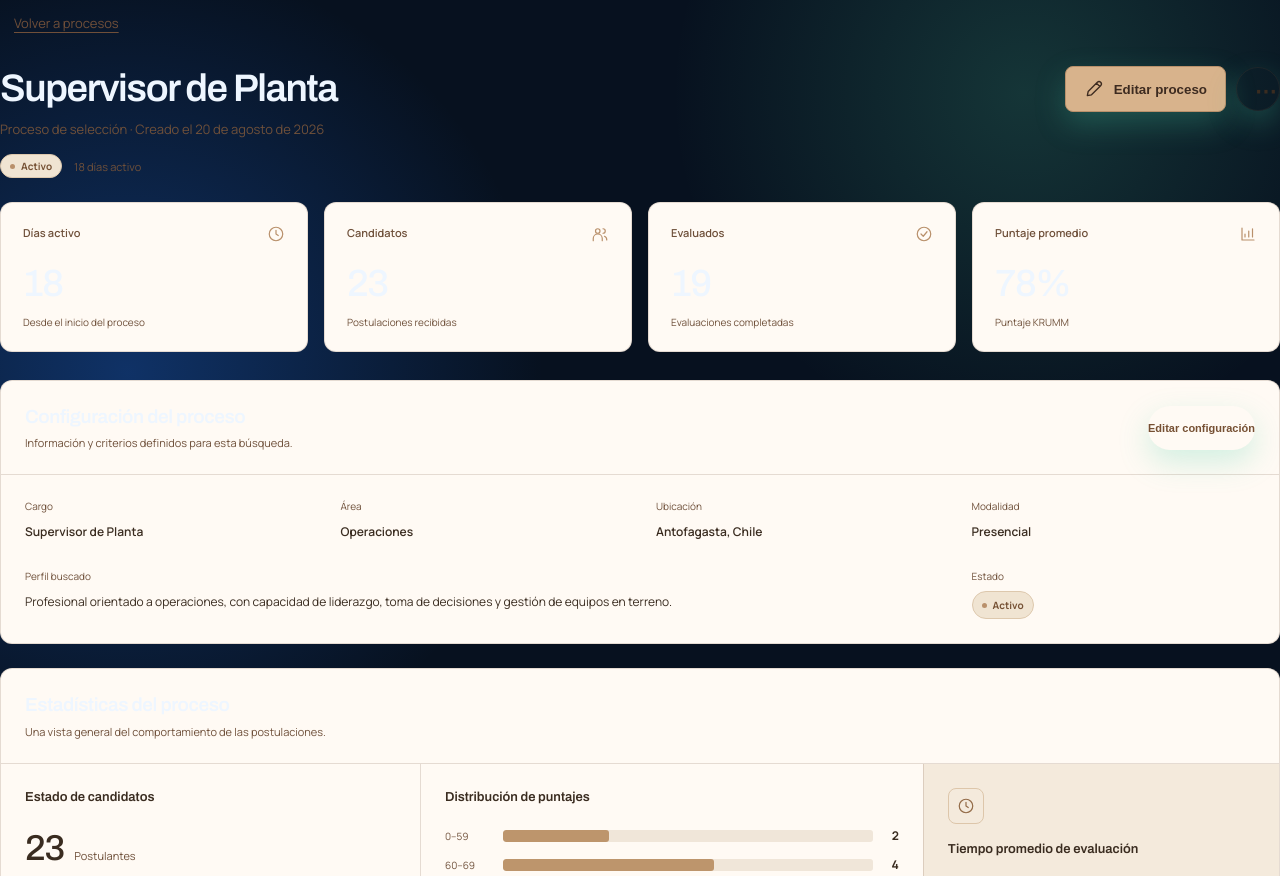
Test: E. Acciones — diálogo preview + menú ⋯ › menú ⋯ abre las 3 acciones (menuitems); Edit desde el menú abre el diálogo de edit
The width and height of the screenshot is (1280, 876).
Click the button named "Más acciones del proceso": (1258, 89) [1236,67,1279,111]
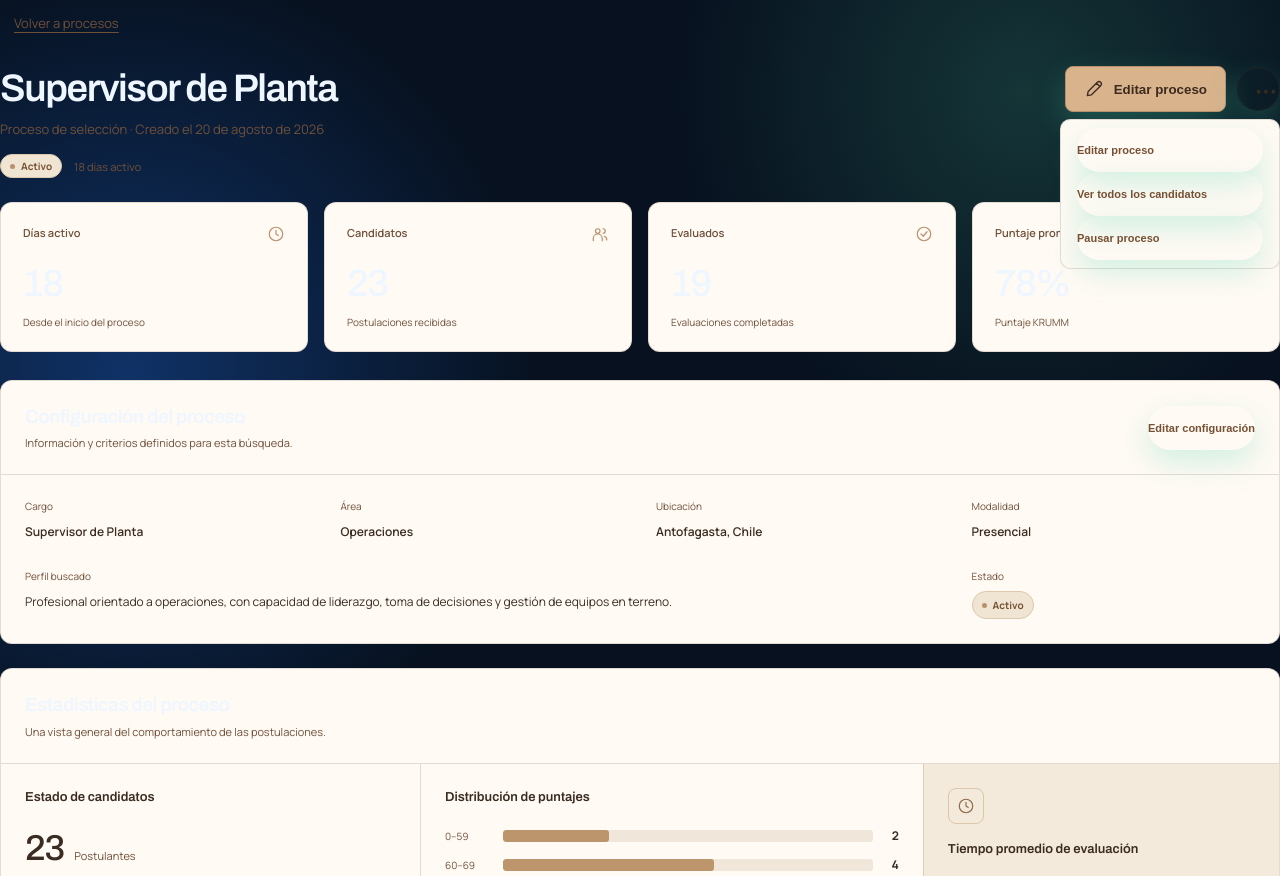
Result: the number of menu items is 3
Result: the menu item "Editar proceso" is shown
Click the menu item "Editar proceso": (1170, 150) [1077,128,1263,172]
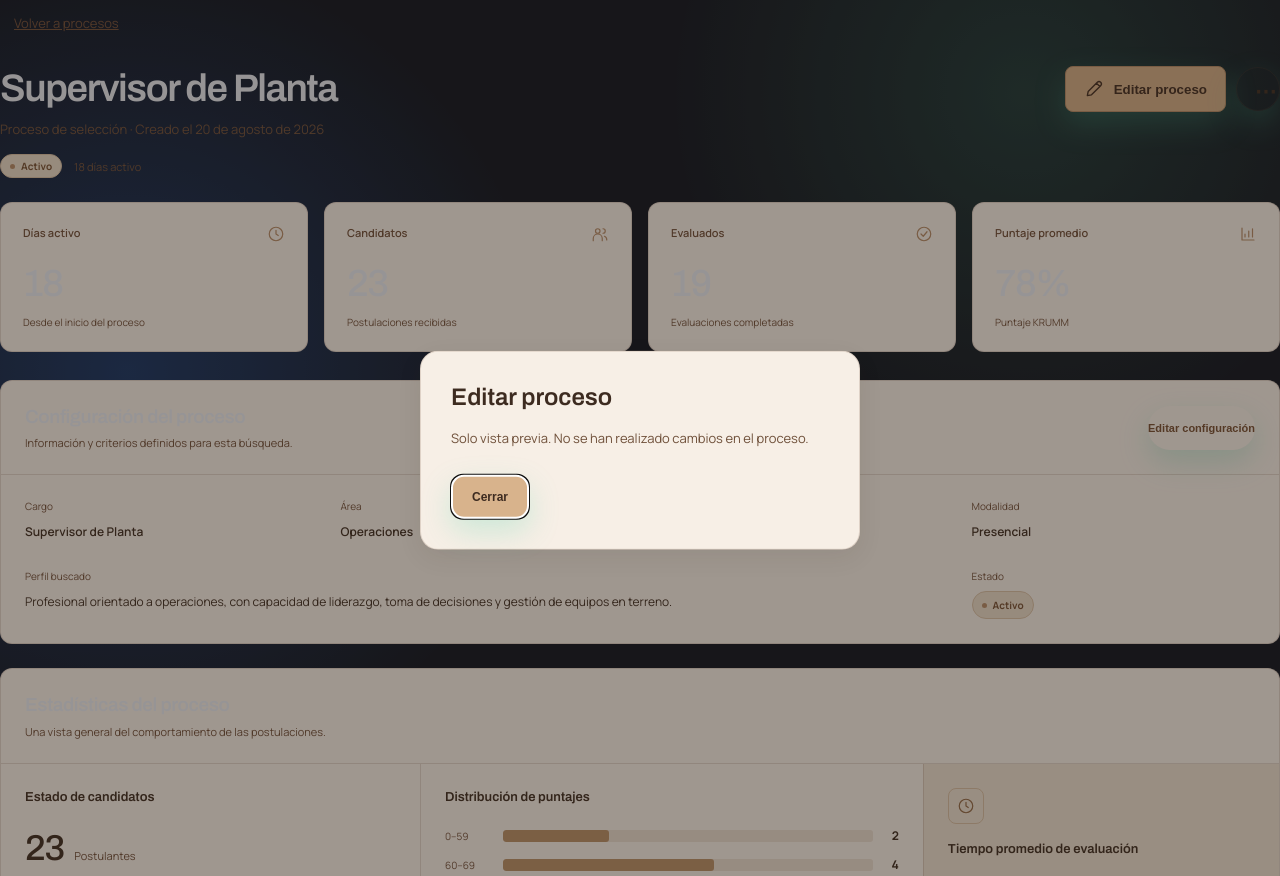
Result: the heading "Editar proceso" is shown at [451,384,612,410]
Result: no menu items are shown
